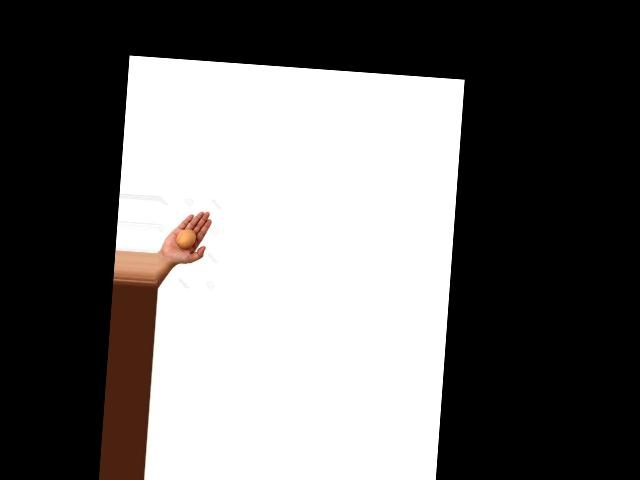egg: (175, 228, 195, 250)
